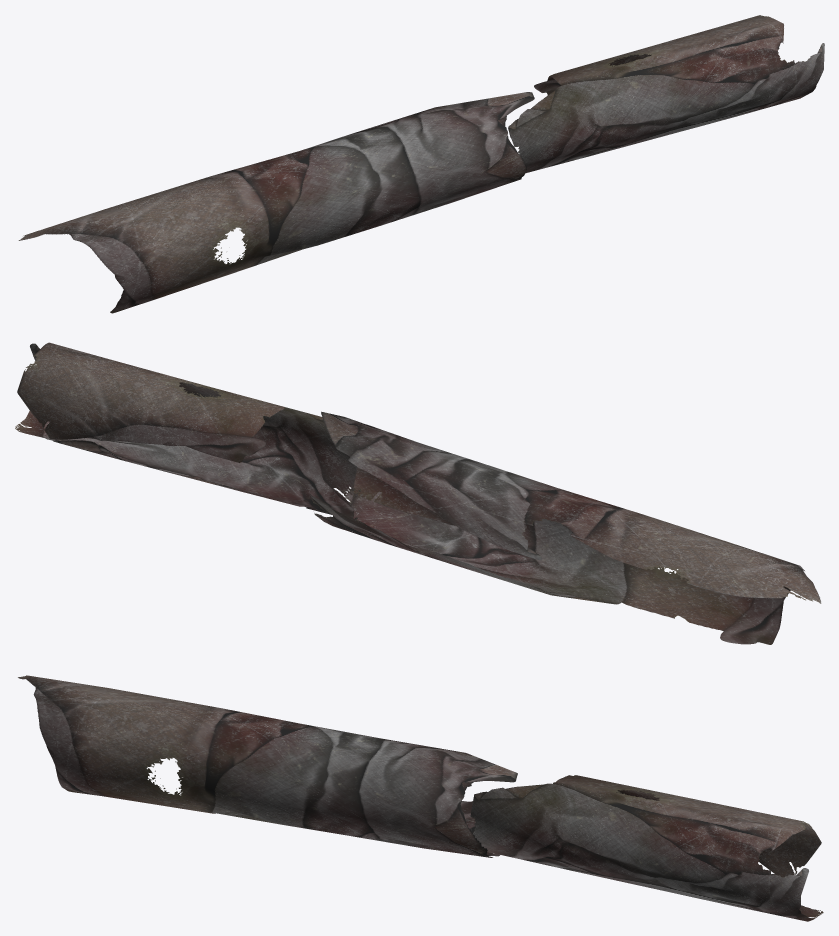
File: Ready_Rag_test.fbx
3 renders of one model, top to bottom at view 1: azimuth 30°, elevation 25°; view 2: azimuth 150°, elevation 25°; view 3: azimuth 330°, elevation 25°, orthographic. The views are drawn at different scales.
Parts seen in each view (by area): view 1: Object202, Object201; view 2: Object202, Object201; view 3: Object202, Object201.
Part boxes in pixels (box(x1,y1,x2,y2)): Object202: box(18, 92, 534, 313); Object201: box(508, 15, 824, 173); Object202: box(310, 411, 821, 644); Object201: box(15, 342, 358, 519); Object202: box(18, 675, 517, 857); Object201: box(470, 775, 823, 921).
Size of the model in its own units: 146 by 22.31 by 16.51.
